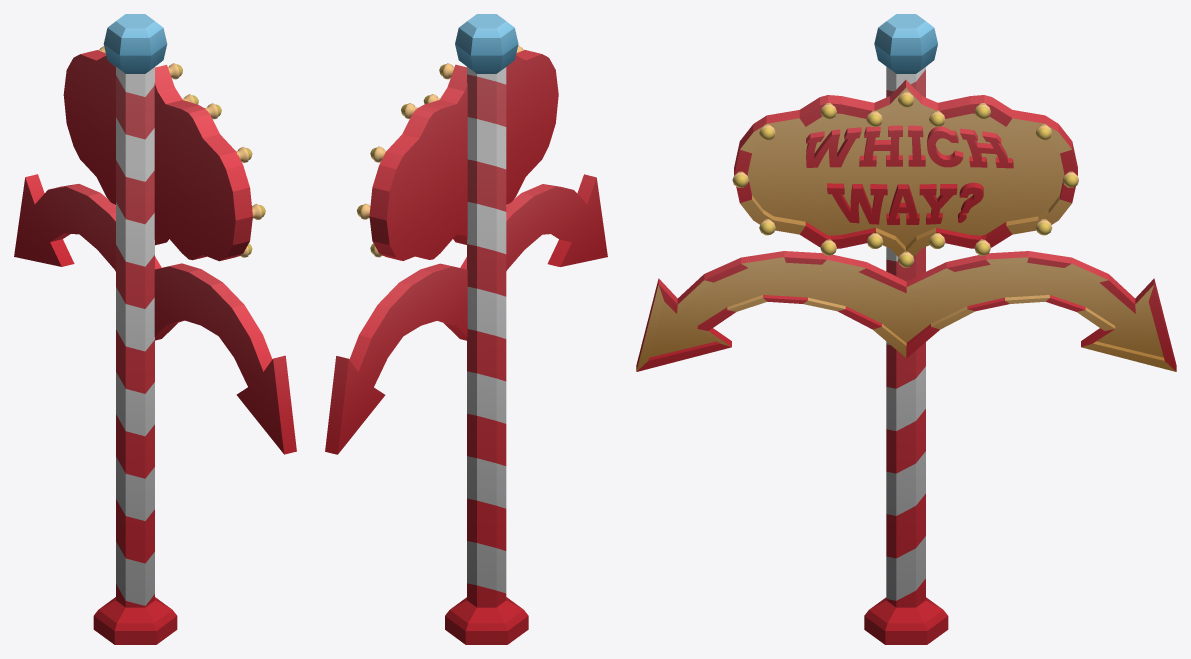
File: which_way_pole.fbx
3 renders of one model, left to right at view 1: azimuth 30°, elevation 25°; view 2: azimuth 150°, elevation 25°; view 3: azimuth 270°, elevation 25°, orthographic.
Visible parts, largest first — view 1: which_way_pole; view 2: which_way_pole; view 3: which_way_pole.
Part boxes in pixels (bbox=[...]): which_way_pole: bbox=[14, 14, 296, 644]; which_way_pole: bbox=[325, 14, 607, 644]; which_way_pole: bbox=[636, 14, 1176, 644].
Size of the model in its own units: 35.5 by 264 by 213.
